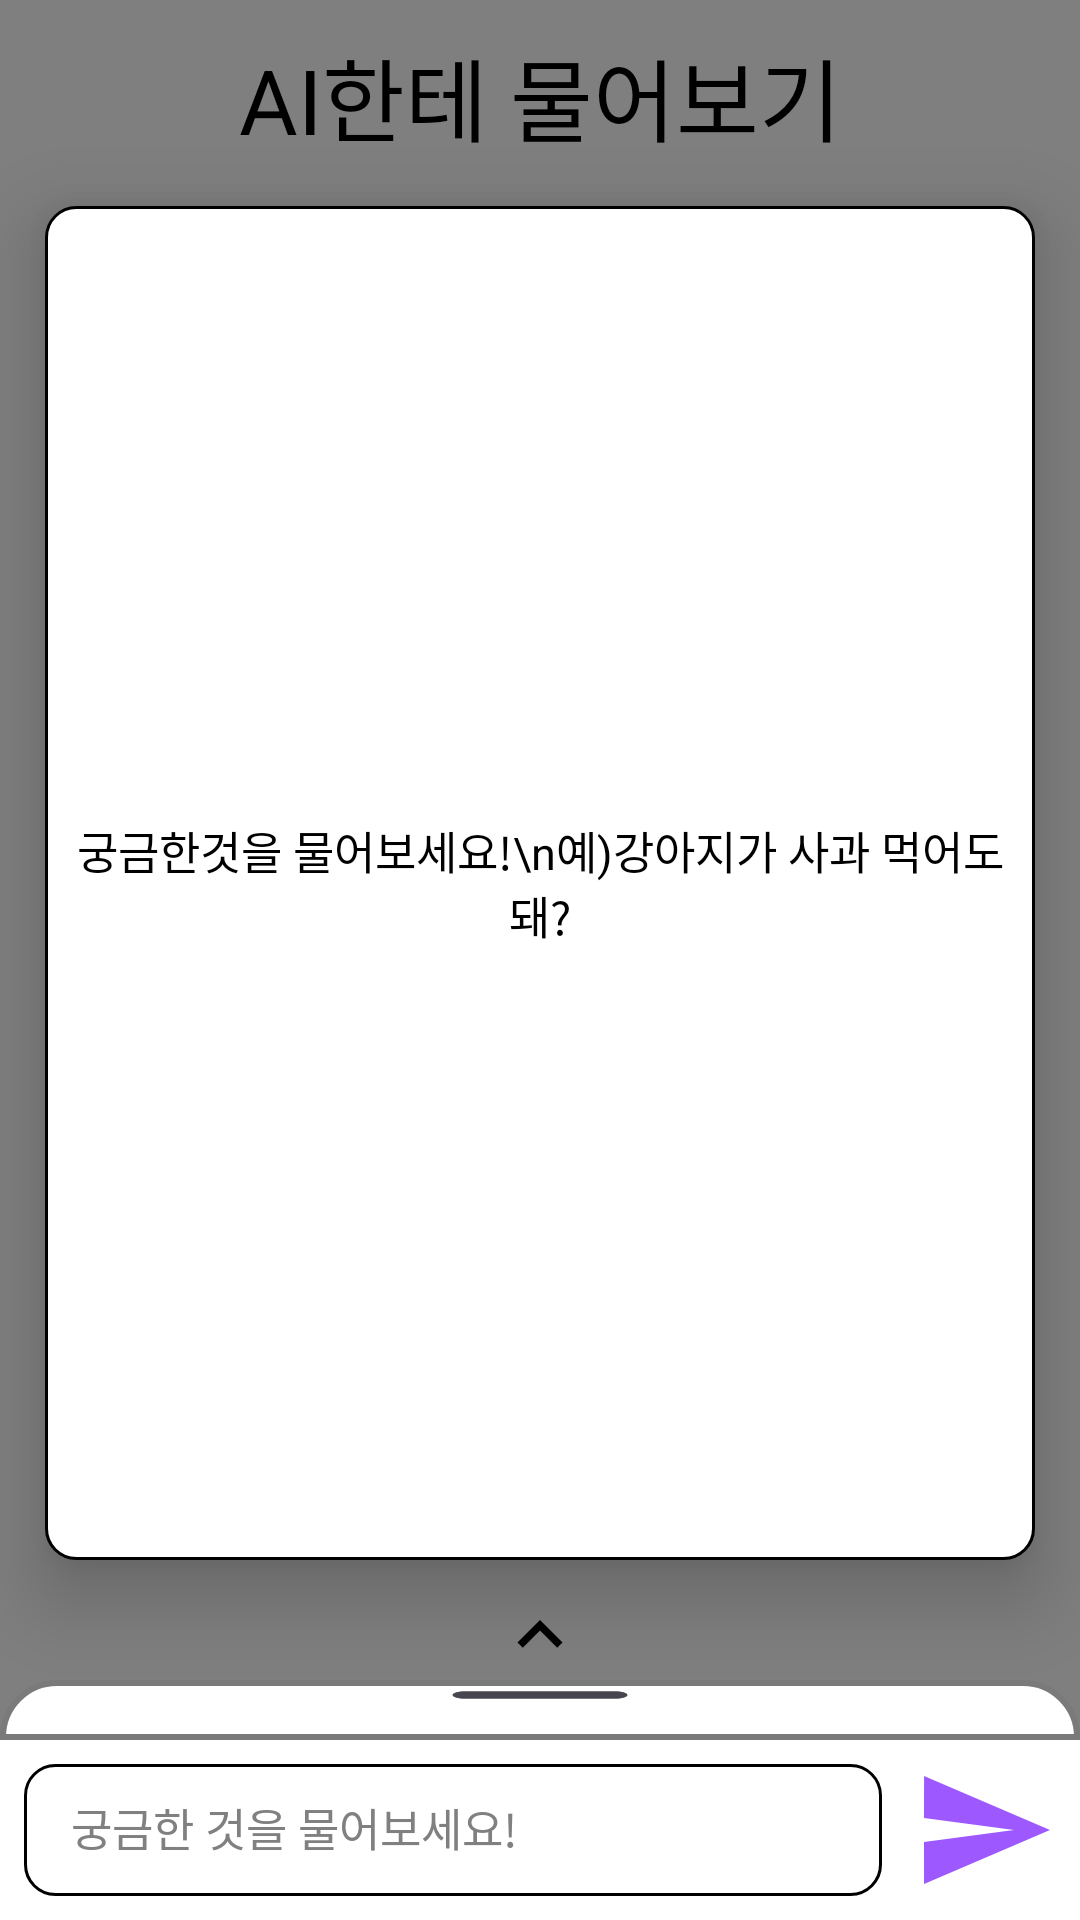

Point at icon controls on the screen. Image size 1080 x 1920, points as [x,y].
send: [987,1830]
